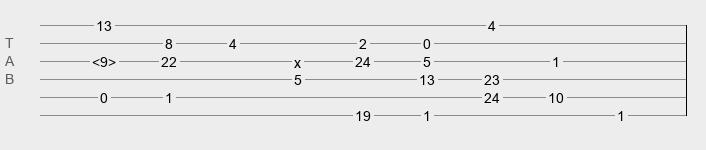0: (100, 90, 108, 100), (423, 36, 431, 46)
1: (165, 90, 173, 100), (423, 108, 431, 118), (552, 54, 560, 64), (617, 108, 625, 118)
10: (548, 90, 564, 100)
13: (96, 18, 112, 28), (419, 72, 435, 82)
19: (355, 108, 371, 118)
2: (359, 36, 367, 46)
22: (161, 54, 177, 64)
23: (484, 72, 500, 82)
24: (355, 54, 371, 64), (484, 90, 500, 100)
4: (229, 36, 237, 46), (488, 18, 496, 28)
5: (294, 72, 302, 82), (423, 54, 431, 64)
8: (165, 36, 173, 46)
harmonic: (92, 54, 116, 64)
x: (294, 55, 301, 63)
